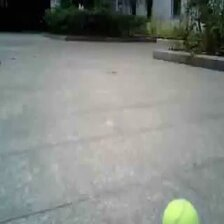tennis: (163, 198, 201, 224)
